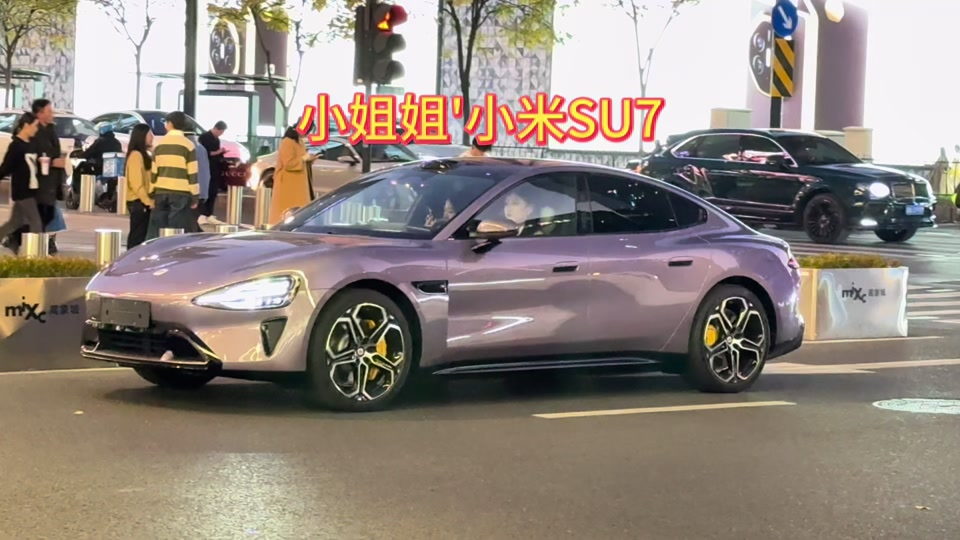other: (650, 112, 938, 238)
su7: (81, 150, 797, 400)
